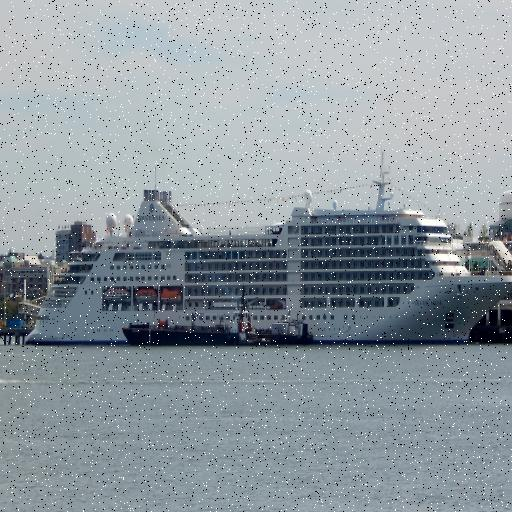cruises: (23, 168, 512, 357)
